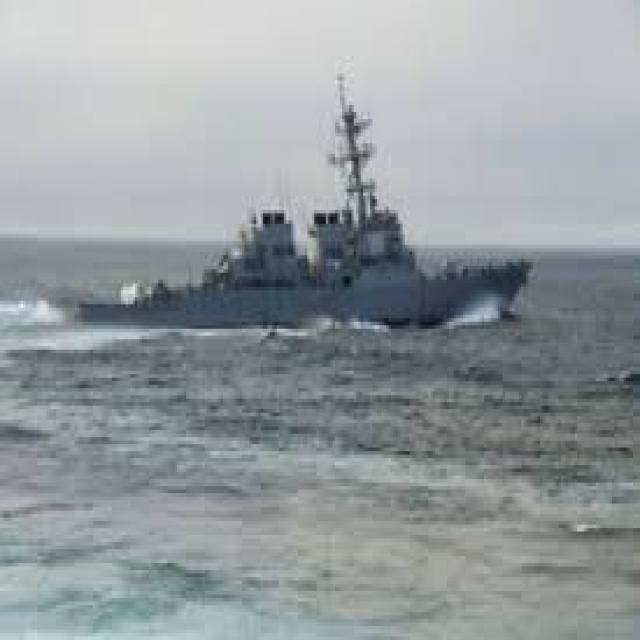navalvessels: (36, 105, 530, 354)
